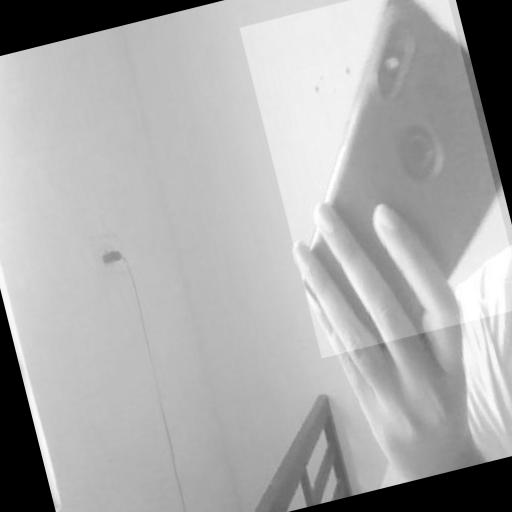phone: (325, 0, 501, 326)
